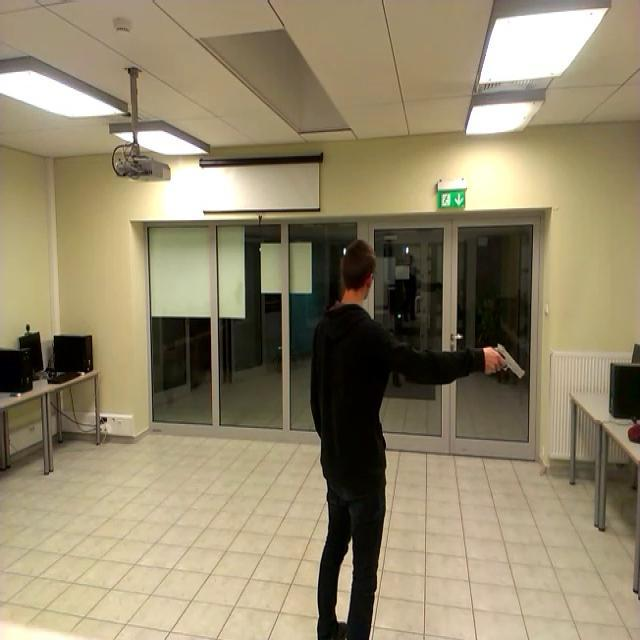Gun: (479, 333, 528, 385)
